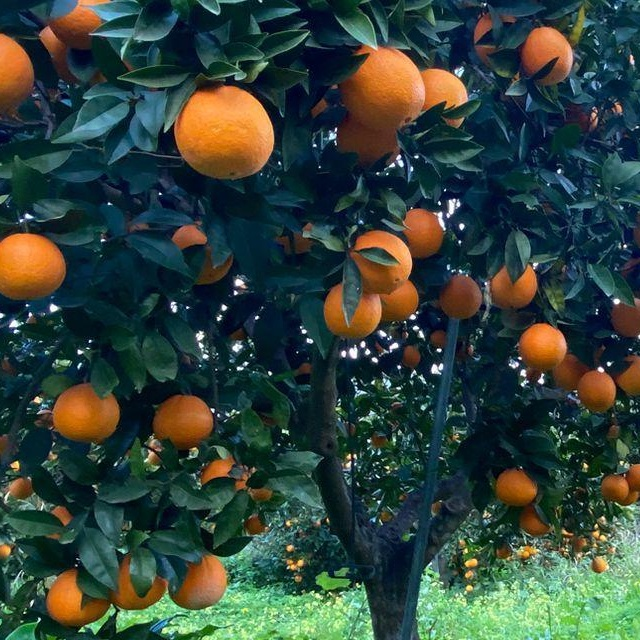orange: (173, 79, 277, 177), (345, 41, 423, 123), (0, 227, 67, 303), (328, 100, 404, 162), (50, 378, 118, 440), (170, 220, 234, 284), (349, 227, 415, 289), (45, 566, 111, 624), (43, 0, 119, 50), (151, 391, 213, 449), (0, 20, 36, 116), (324, 278, 382, 336), (171, 549, 227, 607), (109, 553, 165, 609), (520, 24, 572, 78), (420, 66, 468, 124), (517, 321, 565, 371), (400, 206, 446, 256), (556, 88, 602, 138), (485, 261, 537, 305), (40, 26, 84, 76), (437, 271, 483, 315), (272, 218, 322, 258), (494, 466, 536, 506), (380, 275, 420, 317), (45, 501, 83, 543), (580, 367, 616, 409), (470, 16, 500, 60), (599, 98, 633, 134), (612, 352, 640, 394), (612, 294, 640, 336), (200, 454, 234, 486), (518, 506, 552, 534), (600, 473, 630, 501), (242, 504, 270, 532), (401, 341, 427, 367), (247, 477, 275, 501), (9, 476, 33, 498), (427, 329, 449, 349), (223, 325, 249, 341), (494, 541, 514, 561), (591, 553, 609, 573), (370, 431, 388, 447), (629, 457, 640, 483), (297, 360, 313, 376), (0, 540, 12, 560), (148, 448, 160, 464), (379, 510, 393, 522), (637, 211, 640, 253), (432, 500, 442, 512), (521, 551, 531, 561), (470, 557, 478, 567), (286, 558, 294, 566), (293, 574, 301, 582), (285, 543, 293, 551), (463, 571, 471, 579), (465, 584, 473, 592), (458, 538, 466, 546), (289, 564, 297, 570), (296, 560, 304, 566)
